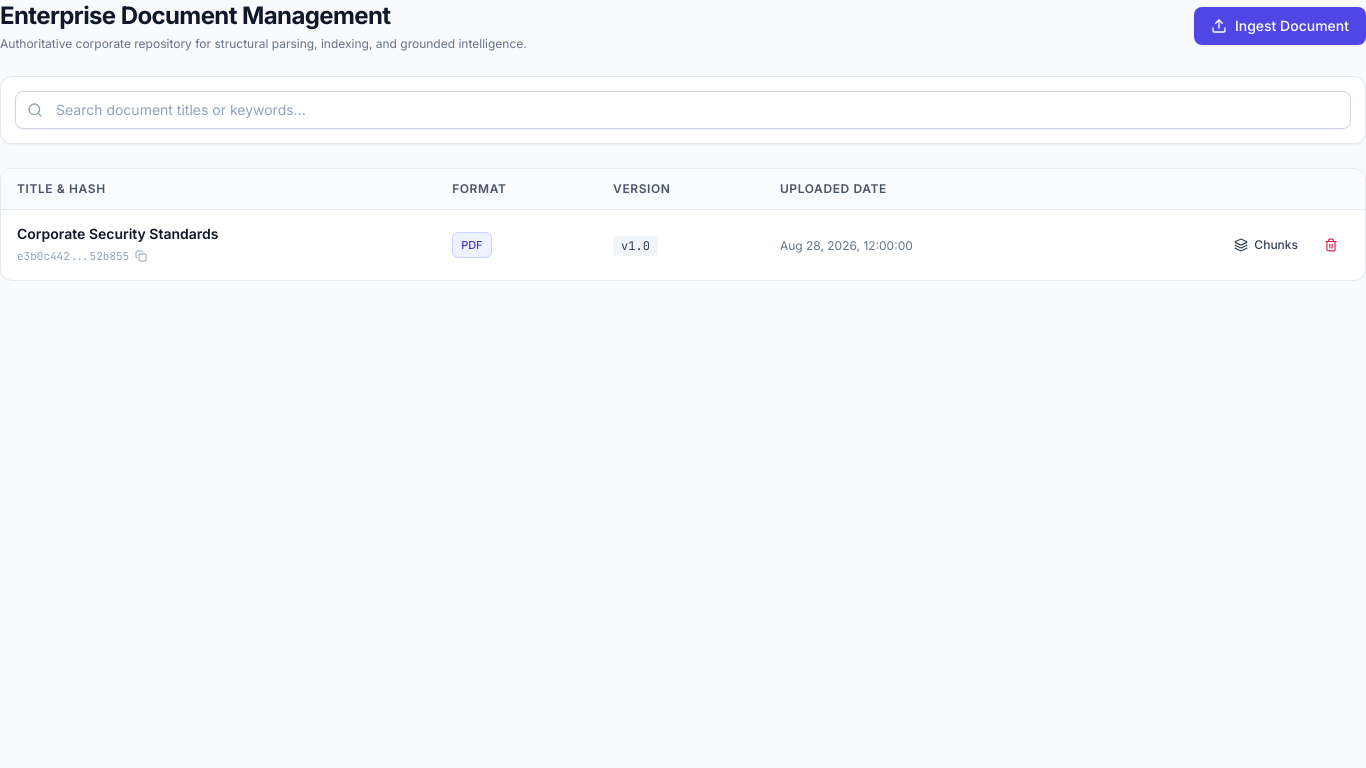
Test: DocumentsPage component › renders documents table and allows opening the upload modal
Expected: the text "Corporate Security Standards" is shown, [17, 225, 218, 242]
Expected: the text "v1.0" is shown, [613, 236, 658, 256]
Click the button "Ingest Document".
click(1280, 26)  # box [1194, 7, 1365, 45]
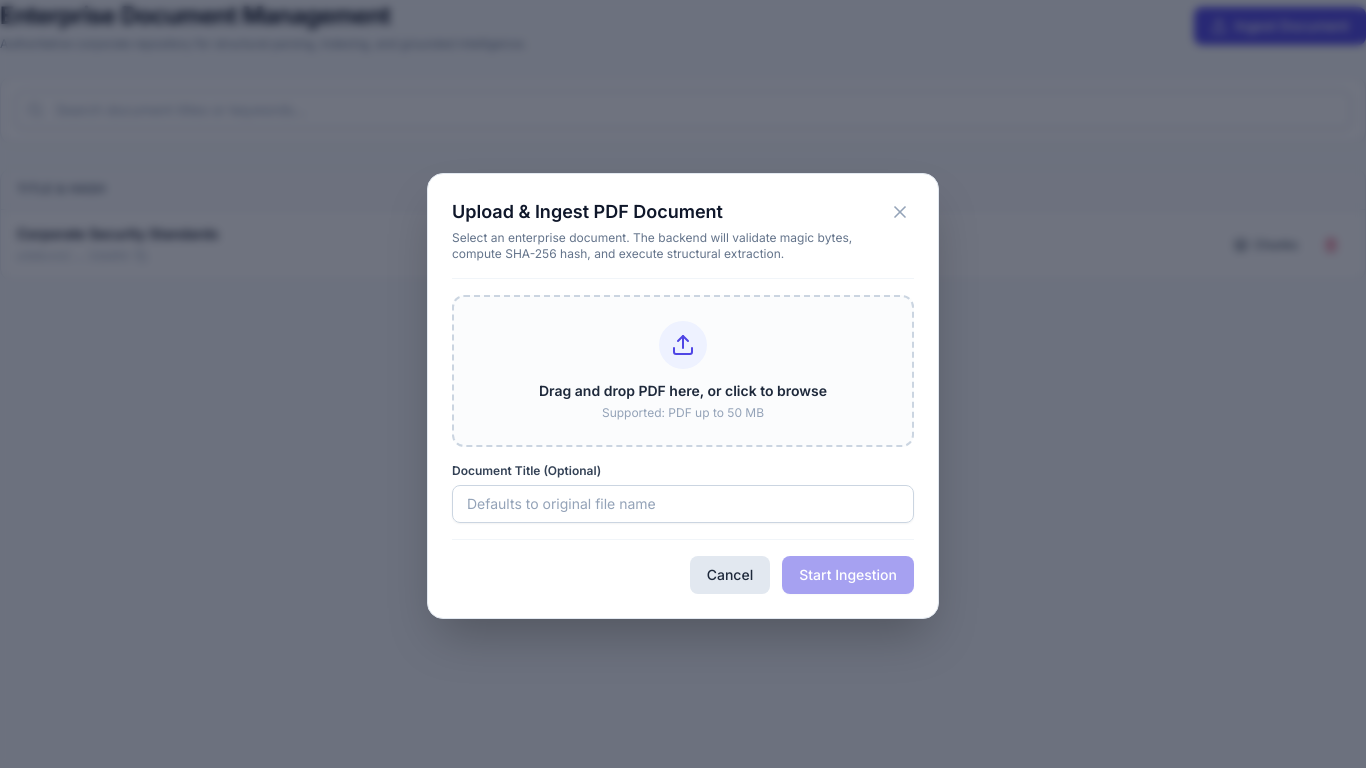
Expected: the heading "Upload & Ingest PDF Document" is shown, [452, 201, 723, 222]
